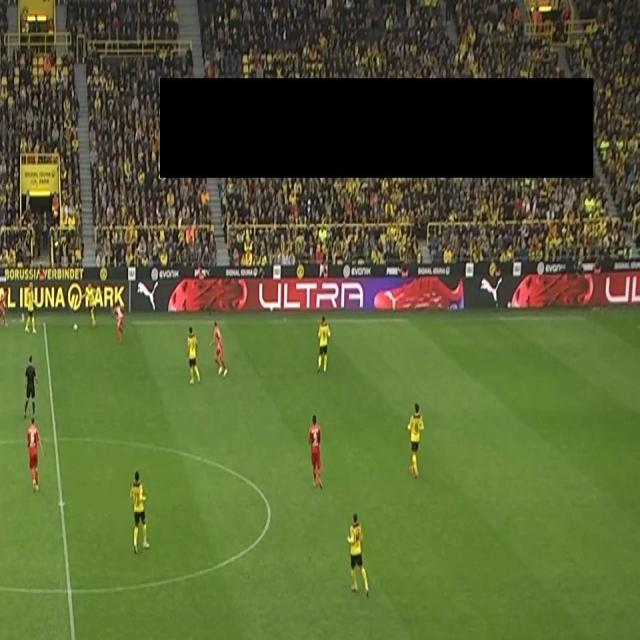ball: (72, 321, 78, 333)
